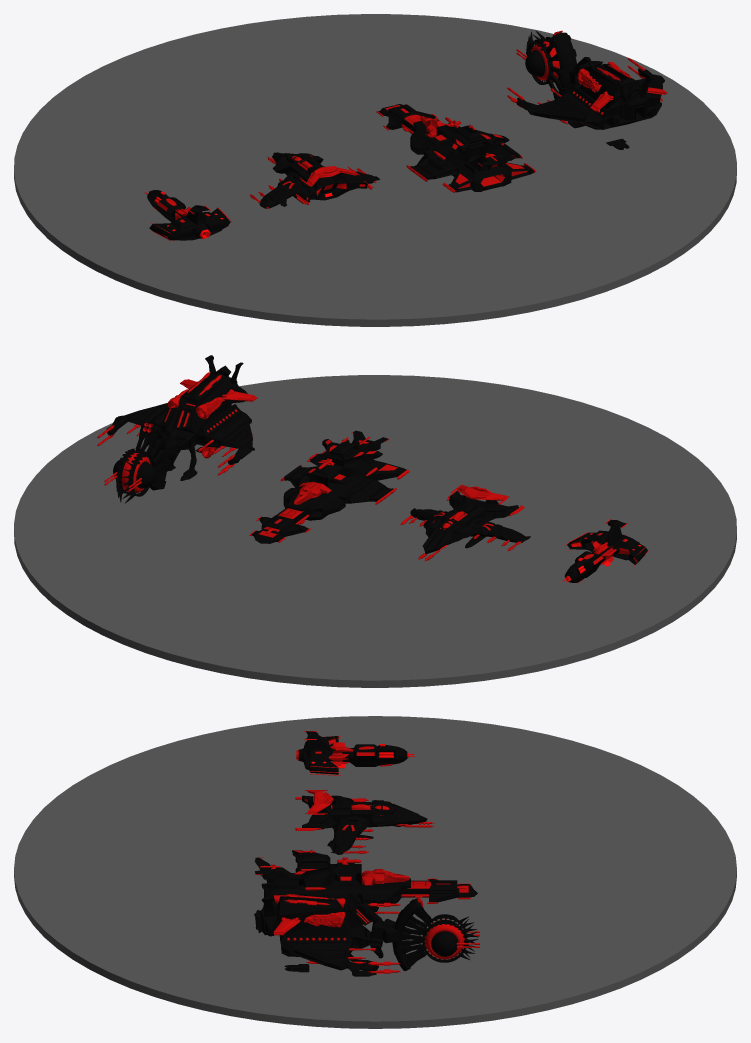
File: compressed-alienspaceship.glb
3 views of the same model, one above another, from view 1: azimuth 30°, elevation 25°; view 2: azimuth 150°, elevation 25°; view 3: azimuth 270°, elevation 25° (orthographic).
Parts seen in each view (by area): view 1: Cylinder13568, Torus005, Box001, ChamferCyl2134, Box002, Box011, Box005, Tube018; view 2: Cylinder13568, Torus005, Box001, Box002, ChamferCyl2134, Tube018, Box005, Box011, Tube019; view 3: Cylinder13568, Torus005, Box001, Box002 (×2), ChamferCyl2134, Tube019, Box004, Tube018, Torus006, Sph345634ere004.
Part boxes in pixels (x1,y1,x2,y2): Cylinder13568: (14,14,736,326); Torus005: (516,32,664,129); Box001: (378,104,533,192); ChamferCyl2134: (147,190,230,240); Box002: (272,152,367,201); Box011: (259,172,306,208); Box005: (410,149,458,179); Tube018: (526,31,560,99); Cylinder13568: (14,375,736,687); Torus005: (106,355,254,490); Box001: (251,430,406,543); Box002: (422,490,518,554); ChamferCyl2134: (564,519,647,582); Tube018: (121,432,166,503); Box005: (338,477,393,503); Box011: (468,517,530,542); Tube019: (116,429,153,502); Cylinder13568: (14,716,736,1028); Torus005: (254,882,421,971); Box001: (254,850,477,905); Box002 (×2): (302,794,427,884); ChamferCyl2134: (296,731,408,774); Tube019: (400,909,478,967); Box004: (327,816,369,854); Tube018: (402,906,478,958); Torus006: (424,919,464,959); Sph345634ere004: (431,932,457,956).
Size of the model in its own units: 17.4 by 2.86 by 17.4.
